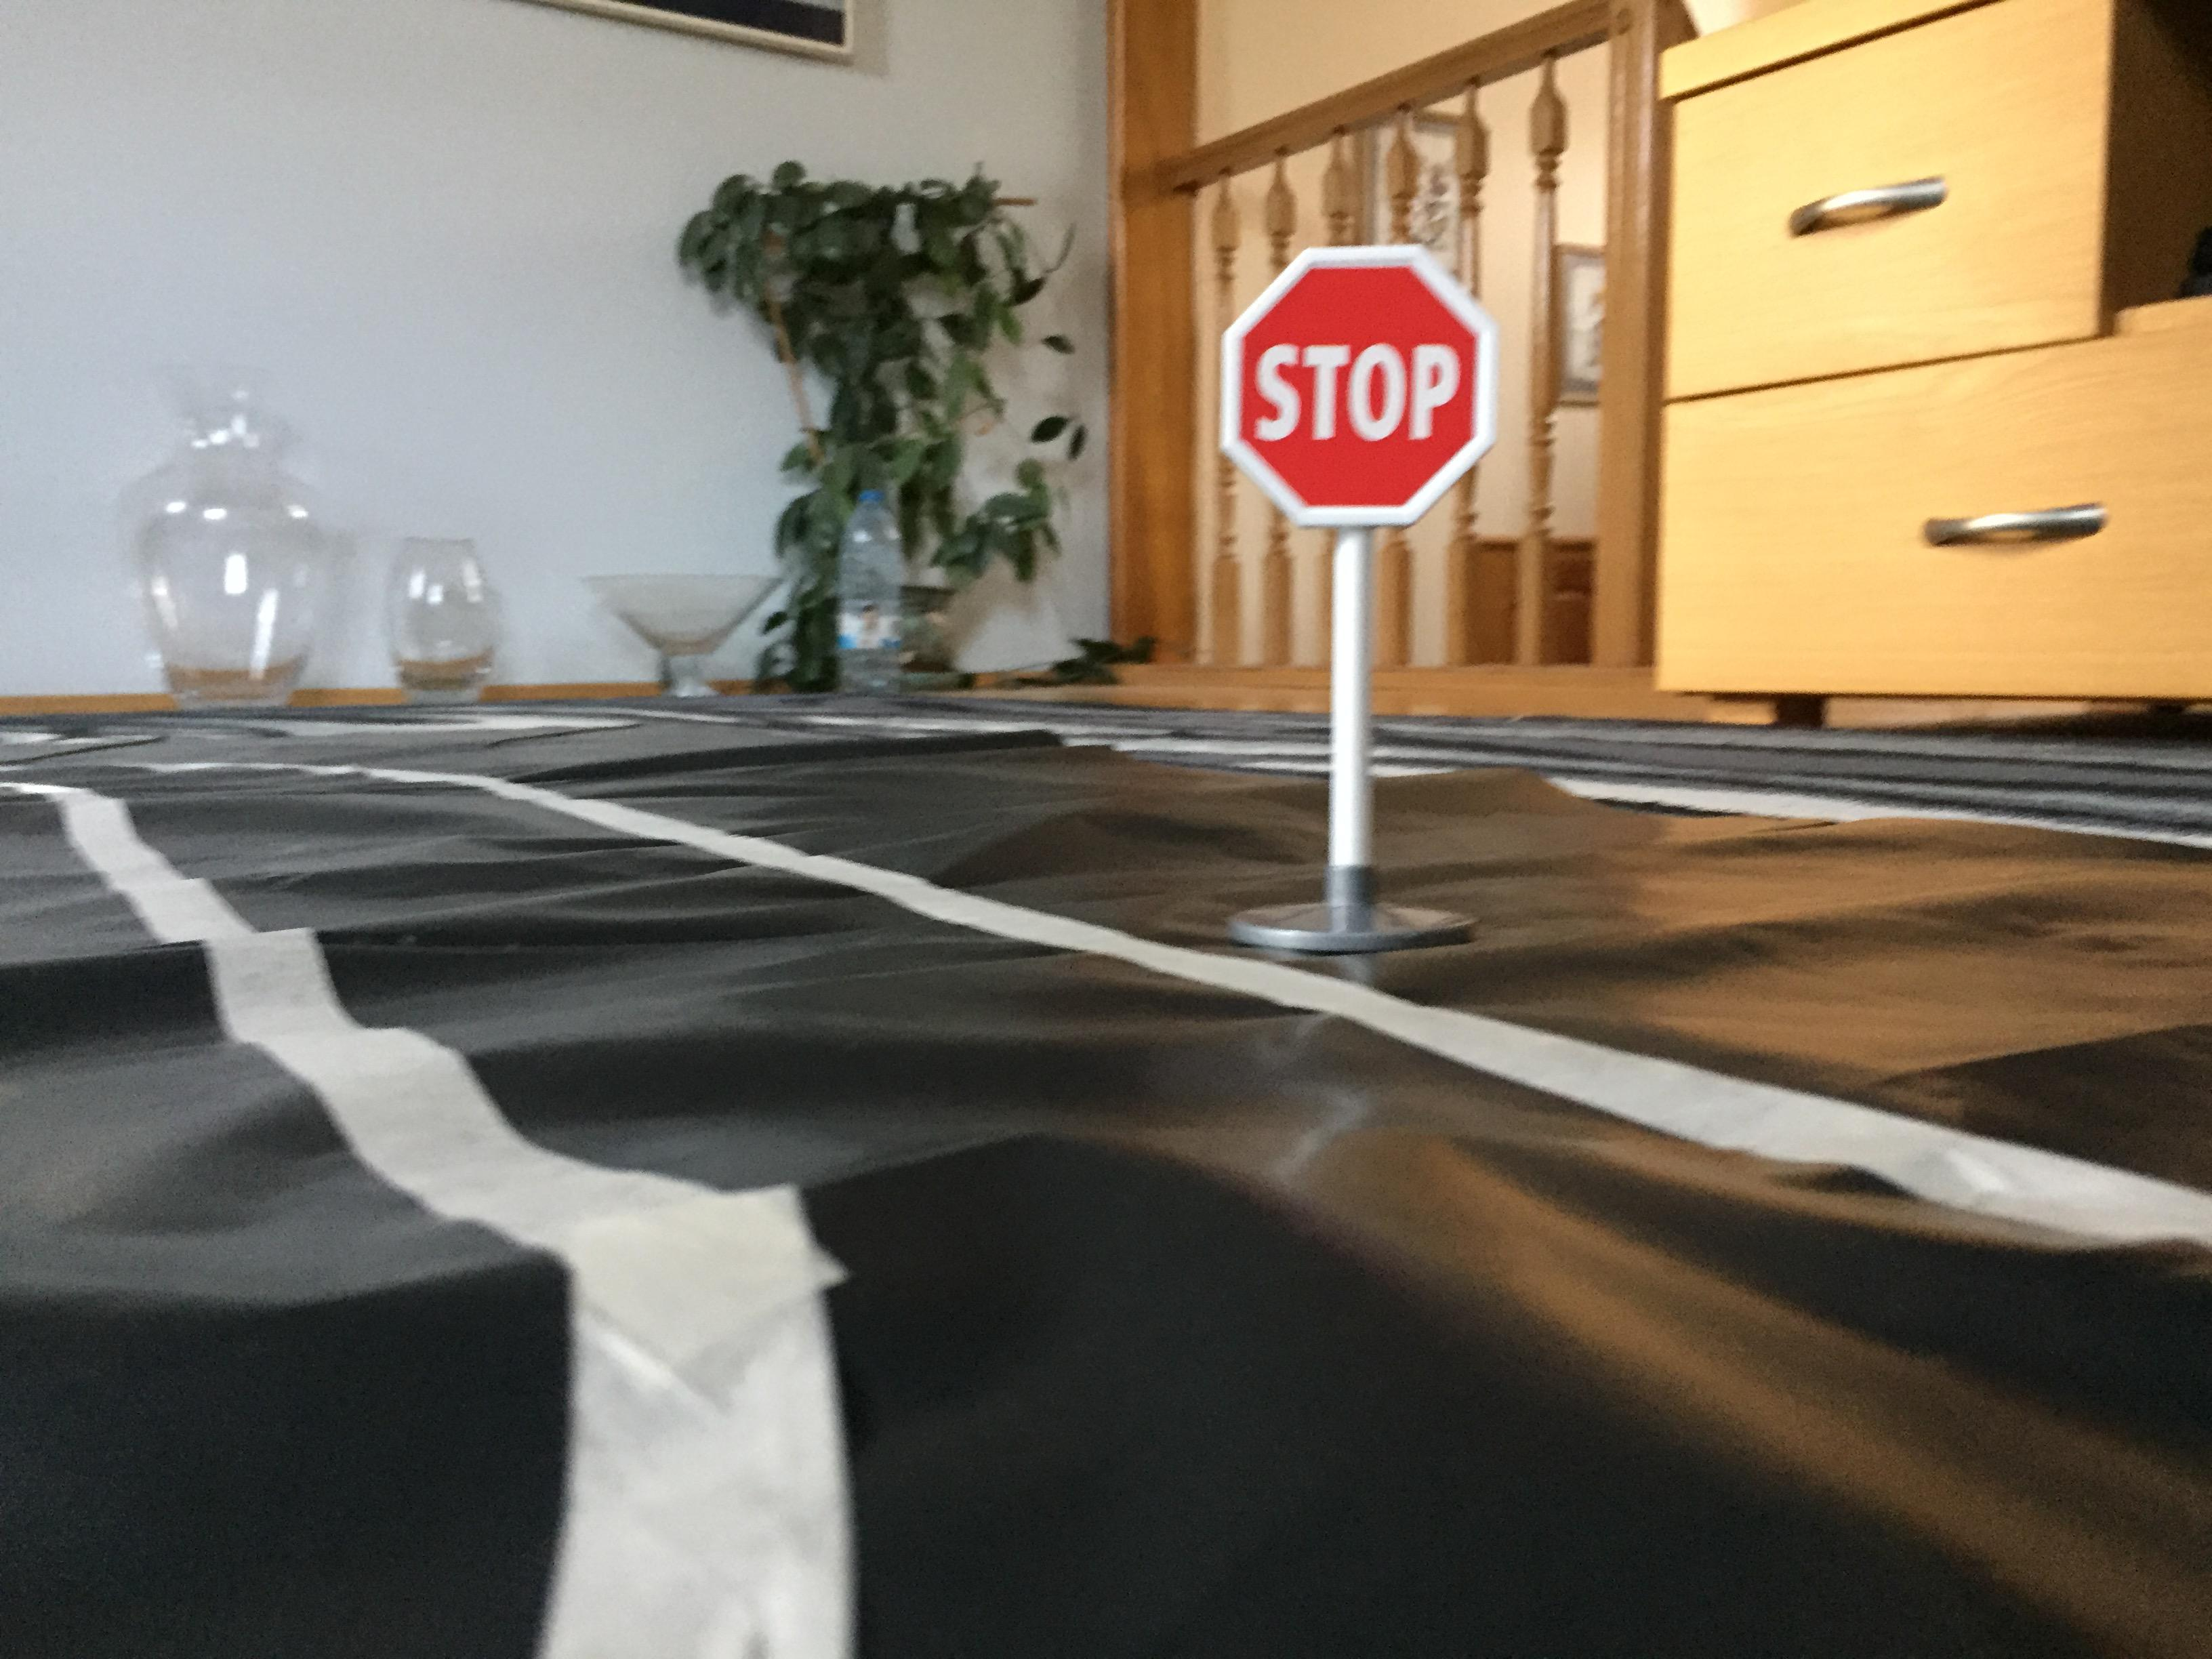stop: (1207, 237, 1522, 549)
